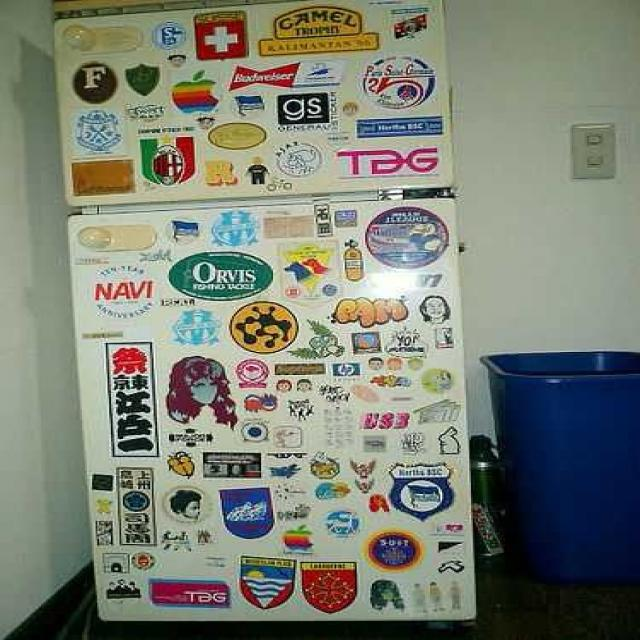refrigerator: (52, 0, 483, 619)
